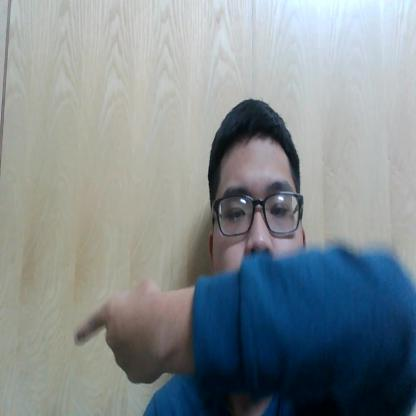right: (67, 281, 176, 382)
